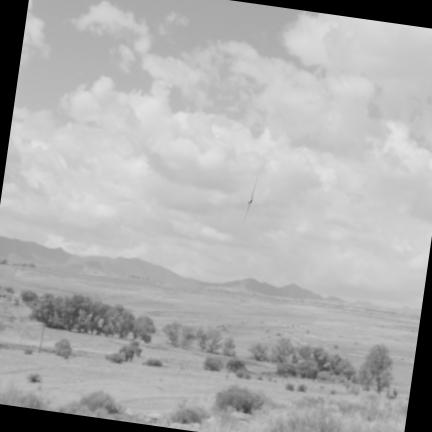Shahed: (242, 178, 261, 223)
